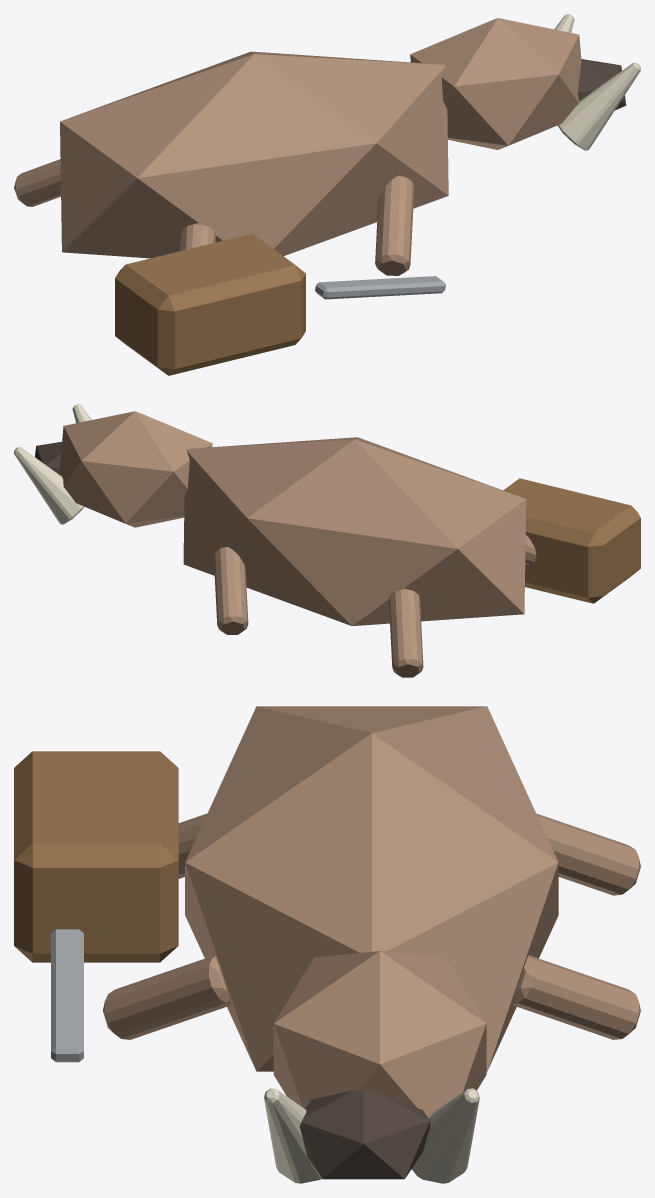
The model's file is boar_sounder_harvest.glb.
3 renders of one model, top to bottom at view 1: azimuth 30°, elevation 25°; view 2: azimuth 150°, elevation 25°; view 3: azimuth 270°, elevation 25°, orthographic. The views are drawn at different scales.
Size of the model in its own units: 2.4 by 0.8352 by 1.52.
